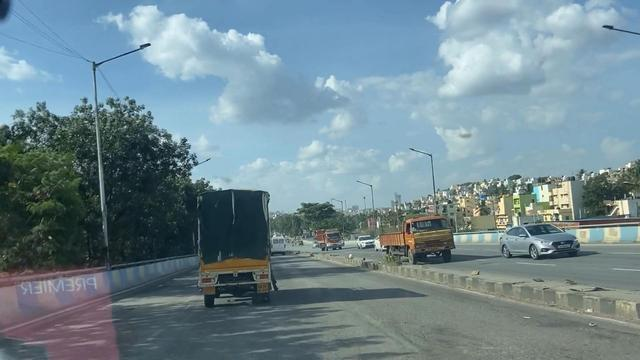HMV: (191, 183, 281, 306)
